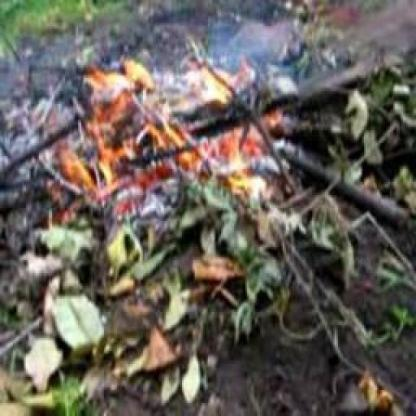fire: (48, 66, 269, 196)
